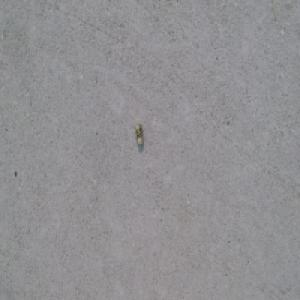BoltNutSet: (134, 123, 143, 145)
